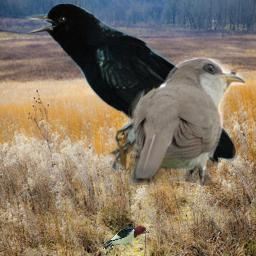Crow: (25, 3, 236, 171)
Cuckoo: (127, 57, 245, 187)
Woodpecker: (100, 223, 151, 253)
